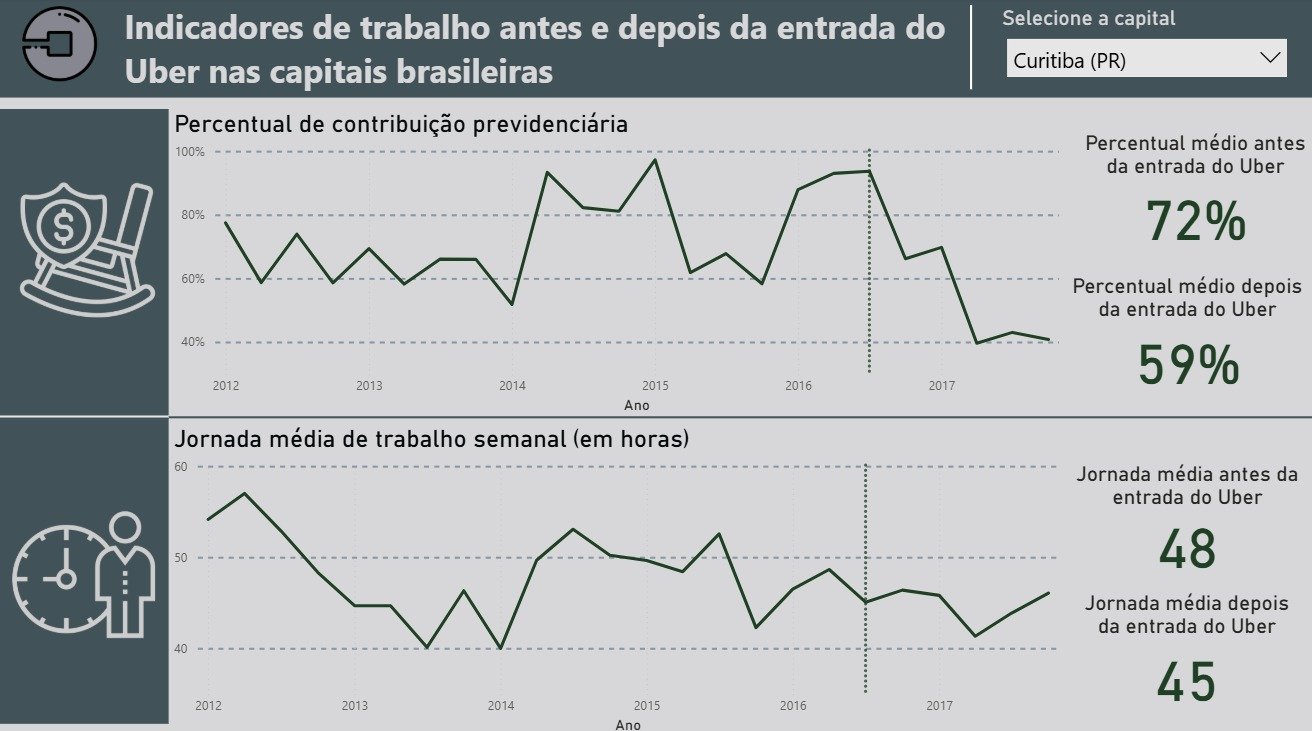

The dashboard page shown, as its layout file describes it:
{"tool":"powerbi","page":{"name":"Página 1","canvas":[1280,720],"ordinal":0},"visuals":[{"type":"shape","box":[0,108,165.3,598.2],"z":0},{"type":"shape","box":[0,0,1280,96.9],"z":1000},{"type":"slicer","title":"Selecione a capital","fields":{"Values":["Sheet1.Capital"]},"box":[970.7,6.8,291.8,82.7],"z":2000},{"type":"lineChart","title":"Percentual de contribuição previdenciária","fields":{"Y":["Avg(Sheet1.contribuinte_previdencia)"],"Category":["Sheet1.data_trimestre.Variation.Hierarquia de datas.Ano","Sheet1.data_trimestre.Variation.Hierarquia de datas.Trimestre"]},"box":[165.3,108,873.4,300.5],"z":3000},{"type":"lineChart","title":"Jornada média de trabalho semanal (em horas)","fields":{"Y":["Sum(Sheet1.horas_trabalho)"],"Category":["Sheet1.data_trimestre.Variation.Hierarquia de datas.Ano","Sheet1.data_trimestre.Variation.Hierarquia de datas.Trimestre"]},"box":[165.3,414.3,873.4,305.4],"z":4000},{"type":"card","title":"Percentual médio antes da entrada do Uber","fields":{"Values":["Sheet1.media_previdencia_antes"]},"box":[1047.7,128.1,232.3,115.6],"z":5000},{"type":"card","title":"Percentual médio depois da entrada do Uber","fields":{"Values":["Sheet1.media_previdencia_depois"]},"box":[1032.1,267.7,247.9,117.7],"z":6000},{"type":"card","title":"Jornada média depois da entrada do Uber","fields":{"Values":["Sheet1.media_trabalho_depois"]},"box":[1039.8,575.8,231.5,117.7],"z":7000},{"type":"card","title":"Jornada média antes da entrada do Uber","fields":{"Values":["Sheet1.media_trabalho_antes"]},"box":[1039.8,450.3,232.5,110.9],"z":8000},{"type":"textbox","box":[116.6,0,864.4,108.3],"z":9000},{"type":"image","box":[17.7,0,83.3,89.6],"z":10000},{"type":"shape","box":[892.6,7.3,105.2,82.3],"z":11000},{"type":"shape","box":[0,366.6,1280,82.3],"z":12000},{"type":"image","box":[5.8,486.3,153.7,148.8],"z":13000},{"type":"image","box":[11.7,170.2,147.8,147.8],"z":14000},{"type":"shape","box":[0,365.7,165.3,82.7],"z":15000}]}

Visuals, with their boxes in screenshot pixels (x1, y1, x2, y2), scaled from the page's 1280x720 canvas onto the 1312x731 screenshot:
shape: 0/110/169/717
shape: 0/0/1311/98
"Selecione a capital" slicer: 995/7/1294/91
"Percentual de contribuição previdenciária" lineChart: 169/110/1065/415
"Jornada média de trabalho semanal (em horas)" lineChart: 169/421/1065/730
"Percentual médio antes da entrada do Uber" card: 1074/130/1311/247
"Percentual médio depois da entrada do Uber" card: 1058/272/1311/391
"Jornada média depois da entrada do Uber" card: 1066/585/1303/704
"Jornada média antes da entrada do Uber" card: 1066/457/1304/570
textbox: 120/0/1006/110
image: 18/0/104/91
shape: 915/7/1023/91
shape: 0/372/1311/456
image: 6/494/163/645
image: 12/173/163/323
shape: 0/371/169/455
